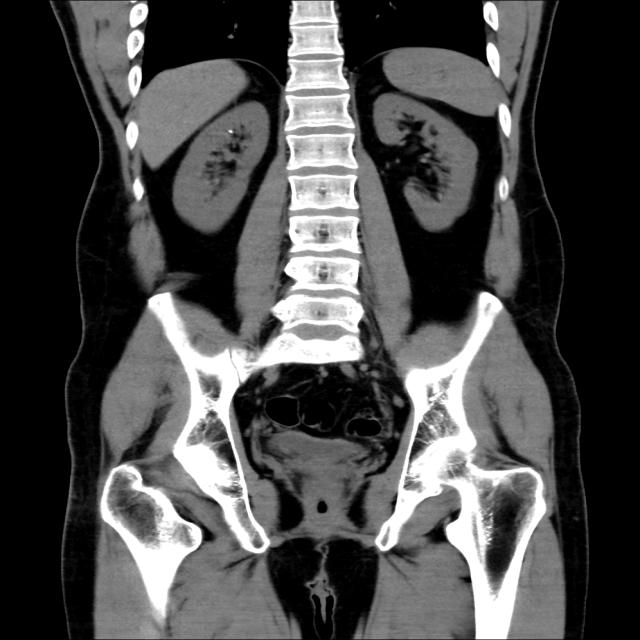kidneystone: (227, 126, 240, 135)
